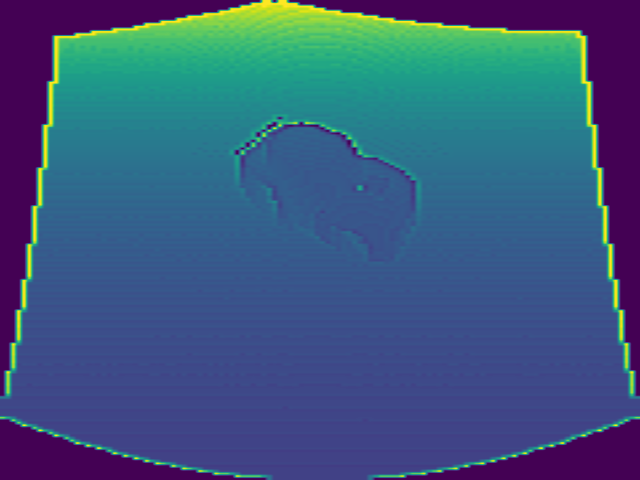car_0027: (233, 116, 417, 267)
